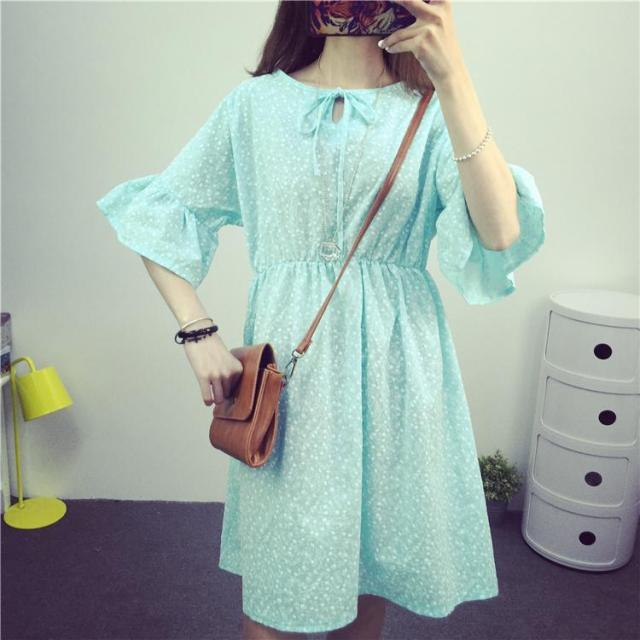short-sleeve-dress: (130, 66, 558, 609), (558, 609, 562, 630)
